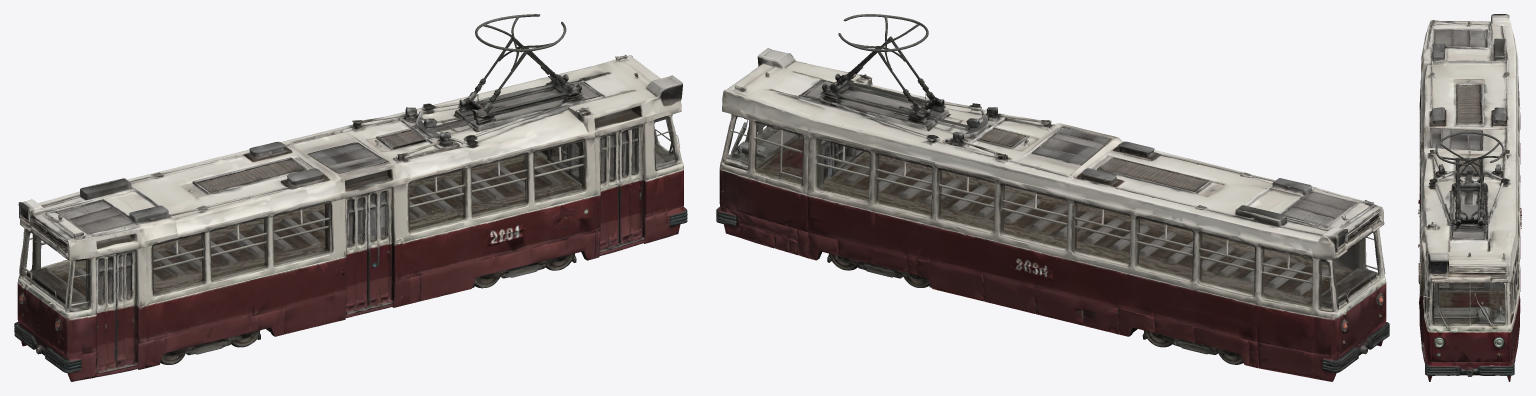
3 views of the same model, side by side, from view 1: azimuth 30°, elevation 25°; view 2: azimuth 150°, elevation 25°; view 3: azimuth 270°, elevation 25° (orthographic). The views are drawn at different scales.
Parts seen in each view (by area): view 1: LM-68; view 2: LM-68; view 3: LM-68.
Part boxes in pixels (left/top/right/bottom): LM-68: left=14, top=14, right=687, bottom=381; LM-68: left=716, top=14, right=1389, bottom=381; LM-68: left=1418, top=14, right=1521, bottom=381.
Bounding box in the file's own units: 15 × 5.25 × 2.6.
Materials: 1 (1 with a texture image).
